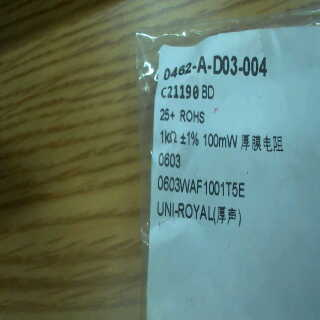1kR: (156, 126, 181, 148)
